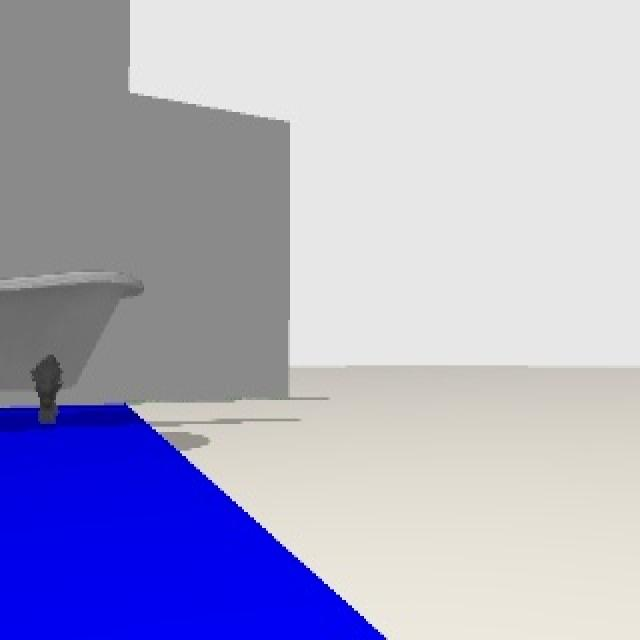bathtub: (0, 269, 146, 424)
